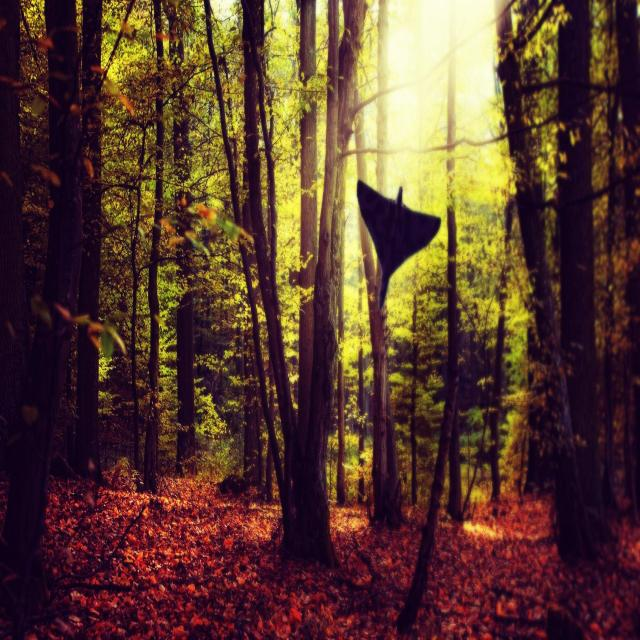airplane: (356, 178, 441, 311)
